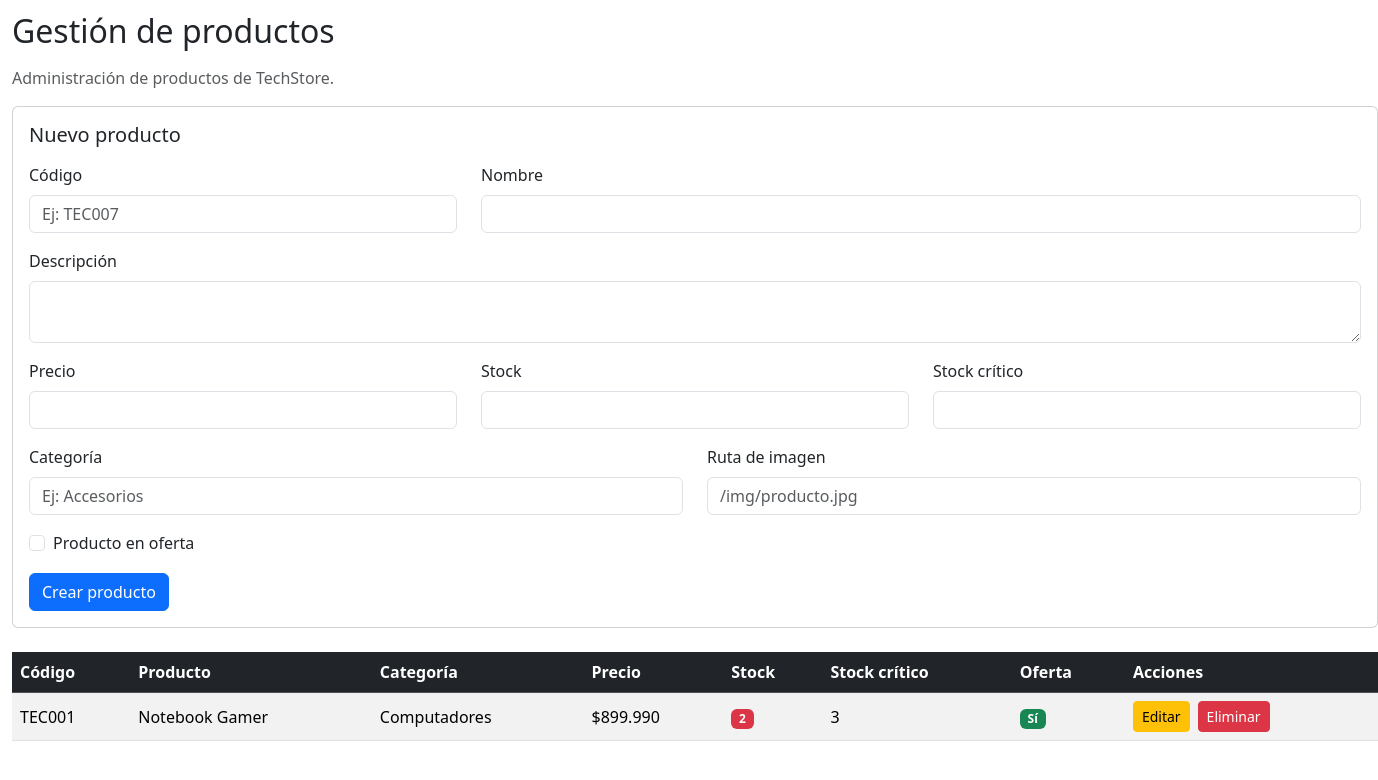
AdminProductos › elimina correctamente un producto confirmado
Click the button "Eliminar": {"x": 1234, "y": 717} [1198,701,1270,732]
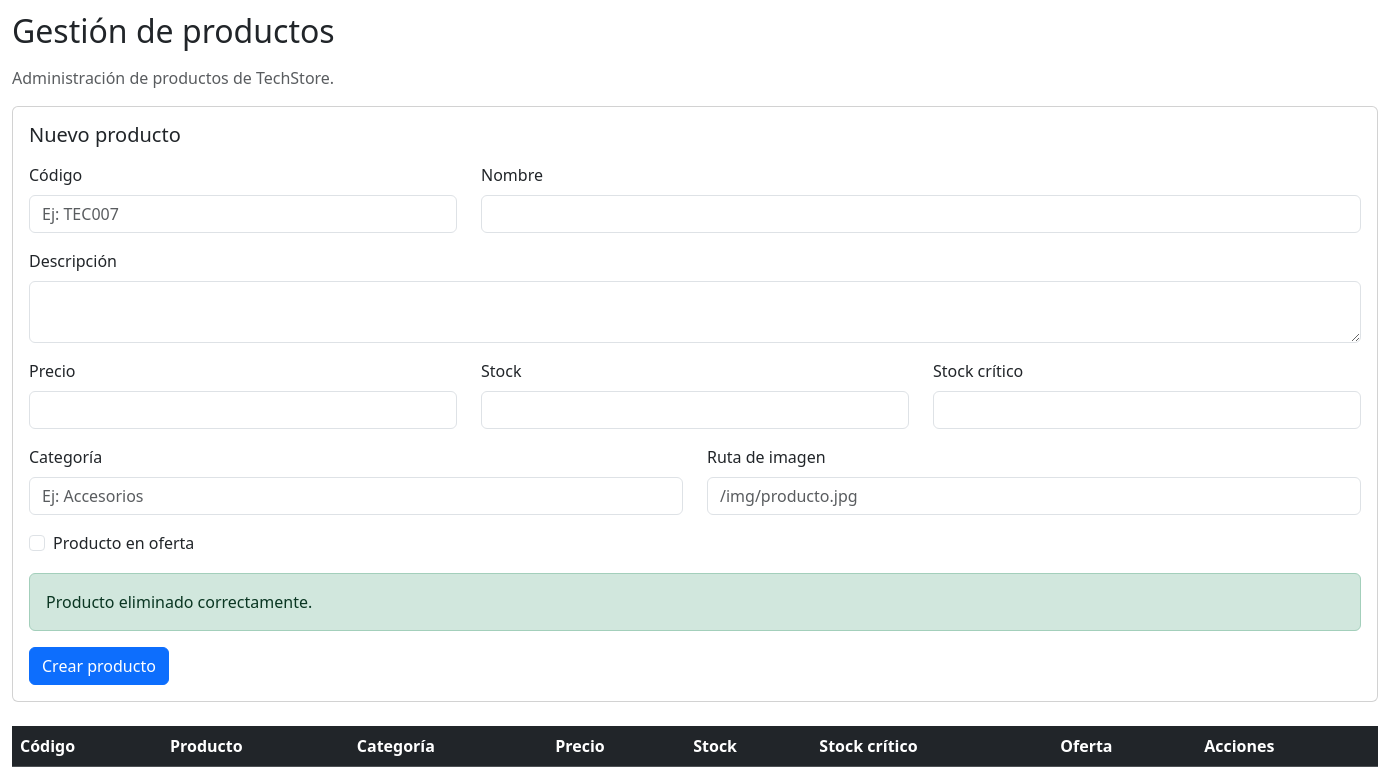
Check: the text "Producto eliminado correctamente." is shown, box [29,573,1361,631]
Check: the text "Notebook Gamer" is gone
